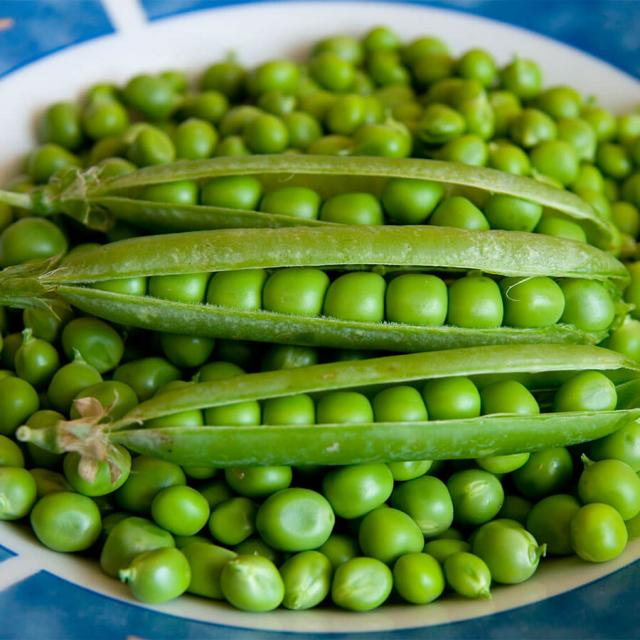Peas: (1, 67, 629, 611), (256, 488, 335, 552), (322, 464, 393, 518), (359, 508, 424, 564), (500, 278, 565, 328), (323, 271, 385, 322), (264, 268, 330, 315), (387, 275, 447, 325), (422, 376, 480, 419), (373, 385, 428, 422), (318, 391, 373, 423)
